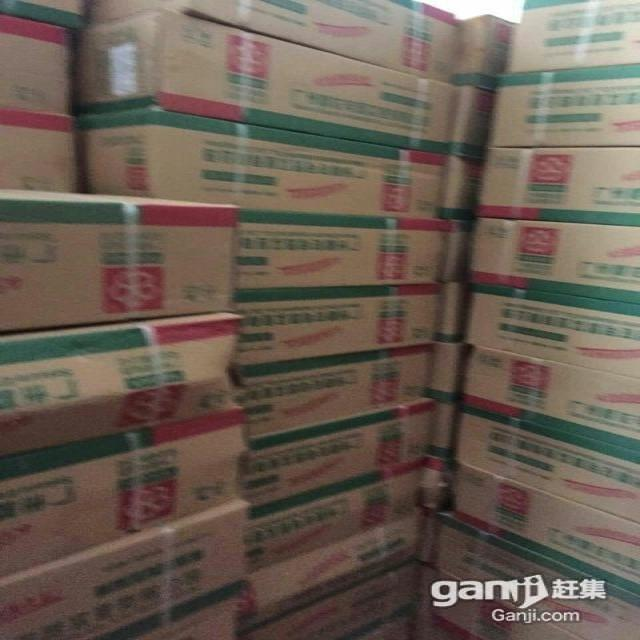box: (71, 7, 456, 156), (0, 410, 249, 575), (73, 109, 445, 214), (0, 495, 252, 640), (0, 309, 245, 456), (0, 187, 243, 332), (84, 0, 457, 82), (433, 514, 640, 640), (455, 462, 640, 598), (237, 396, 436, 522), (453, 400, 640, 524), (236, 509, 421, 622), (459, 341, 640, 452), (247, 468, 425, 577), (232, 343, 432, 438), (229, 283, 439, 368), (235, 207, 449, 287), (467, 282, 640, 378), (468, 214, 640, 307), (233, 555, 417, 640), (476, 145, 640, 227), (488, 67, 640, 145), (429, 564, 581, 640), (504, 0, 640, 73), (0, 15, 75, 113), (0, 107, 75, 192), (452, 15, 517, 93), (136, 598, 236, 640), (453, 83, 497, 163), (439, 155, 489, 222), (428, 341, 475, 402), (424, 449, 456, 520), (439, 218, 471, 284), (436, 282, 469, 342), (429, 403, 459, 460)
